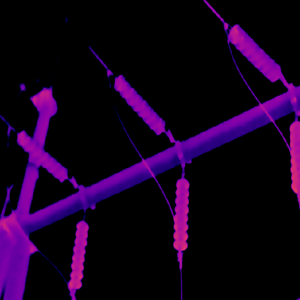insulator: (112, 72, 167, 136), (226, 22, 281, 83), (15, 127, 68, 184), (66, 218, 89, 291), (171, 176, 189, 251), (288, 118, 300, 196)
